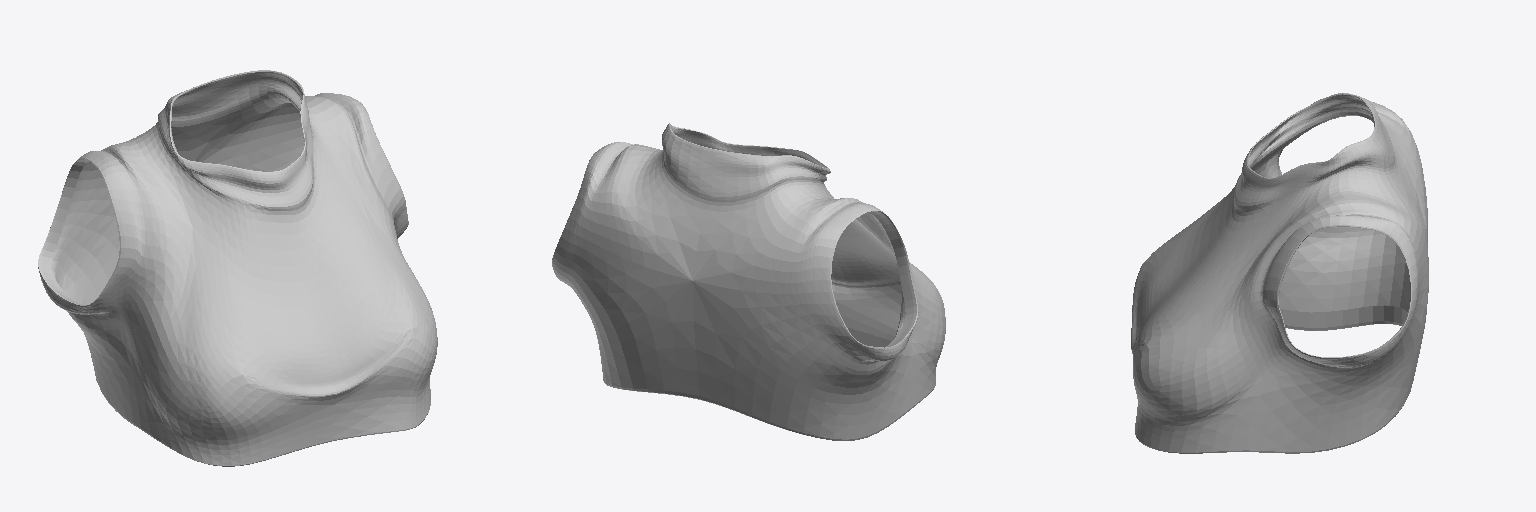
Rendered from A3_SpaceCafe_Shirt.obj.
3 renders of one model, left to right at view 1: azimuth 30°, elevation 25°; view 2: azimuth 150°, elevation 25°; view 3: azimuth 270°, elevation 25°, orthographic.
Parts seen in each view (by area): view 1: rCollar, chest, lCollar; view 2: chest, rCollar, lCollar; view 3: lCollar, chest, rCollar.
Boxes of the visible parts, x1=… form: rCollar: x1=38, y1=152, x2=312, y2=454; chest: x1=90, y1=70, x2=430, y2=466; lCollar: x1=215, y1=93, x2=437, y2=415; chest: x1=587, y1=123, x2=935, y2=440; rCollar: x1=724, y1=191, x2=945, y2=425; lCollar: x1=552, y1=142, x2=661, y2=371; lCollar: x1=1132, y1=209, x2=1428, y2=437; chest: x1=1131, y1=93, x2=1428, y2=453; rCollar: x1=1132, y1=98, x2=1427, y2=325.
Bounding box in the file's own units: 0.1247 × 0.1017 × 0.0967.